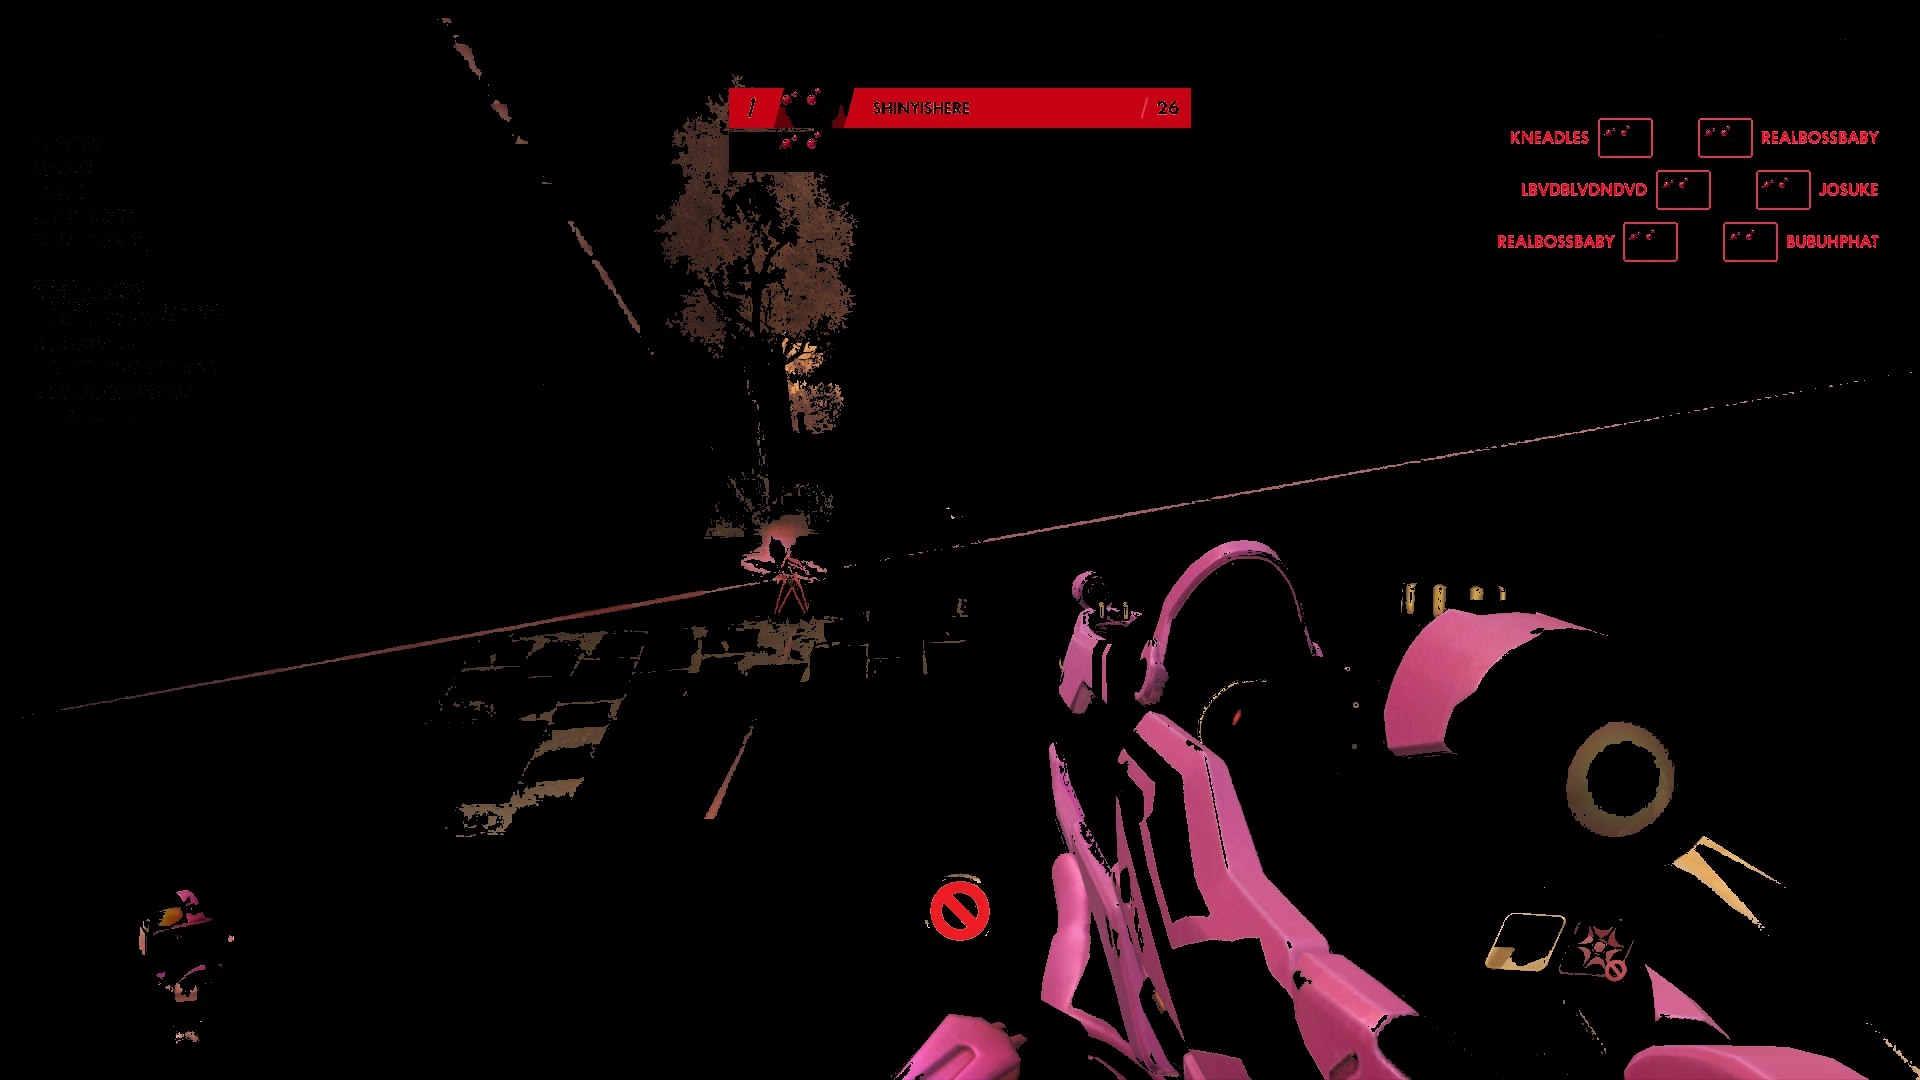widowmaker: (767, 556, 812, 622)
